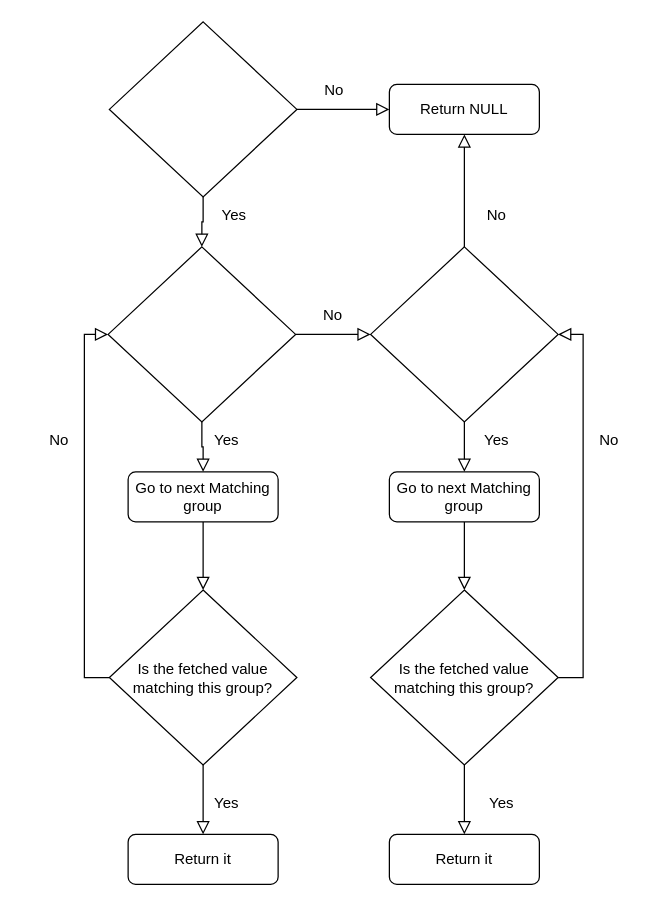
Some shapes in this 668 by 906 pixel diagram are drawn without their labels. Each missing label, with the centre of its shape:
"Are there any groups?" goes at [202,109].
"Has unhandled Between groups?" goes at [463,334].
"Has unhandled Matching groups?" goes at [201,334].
